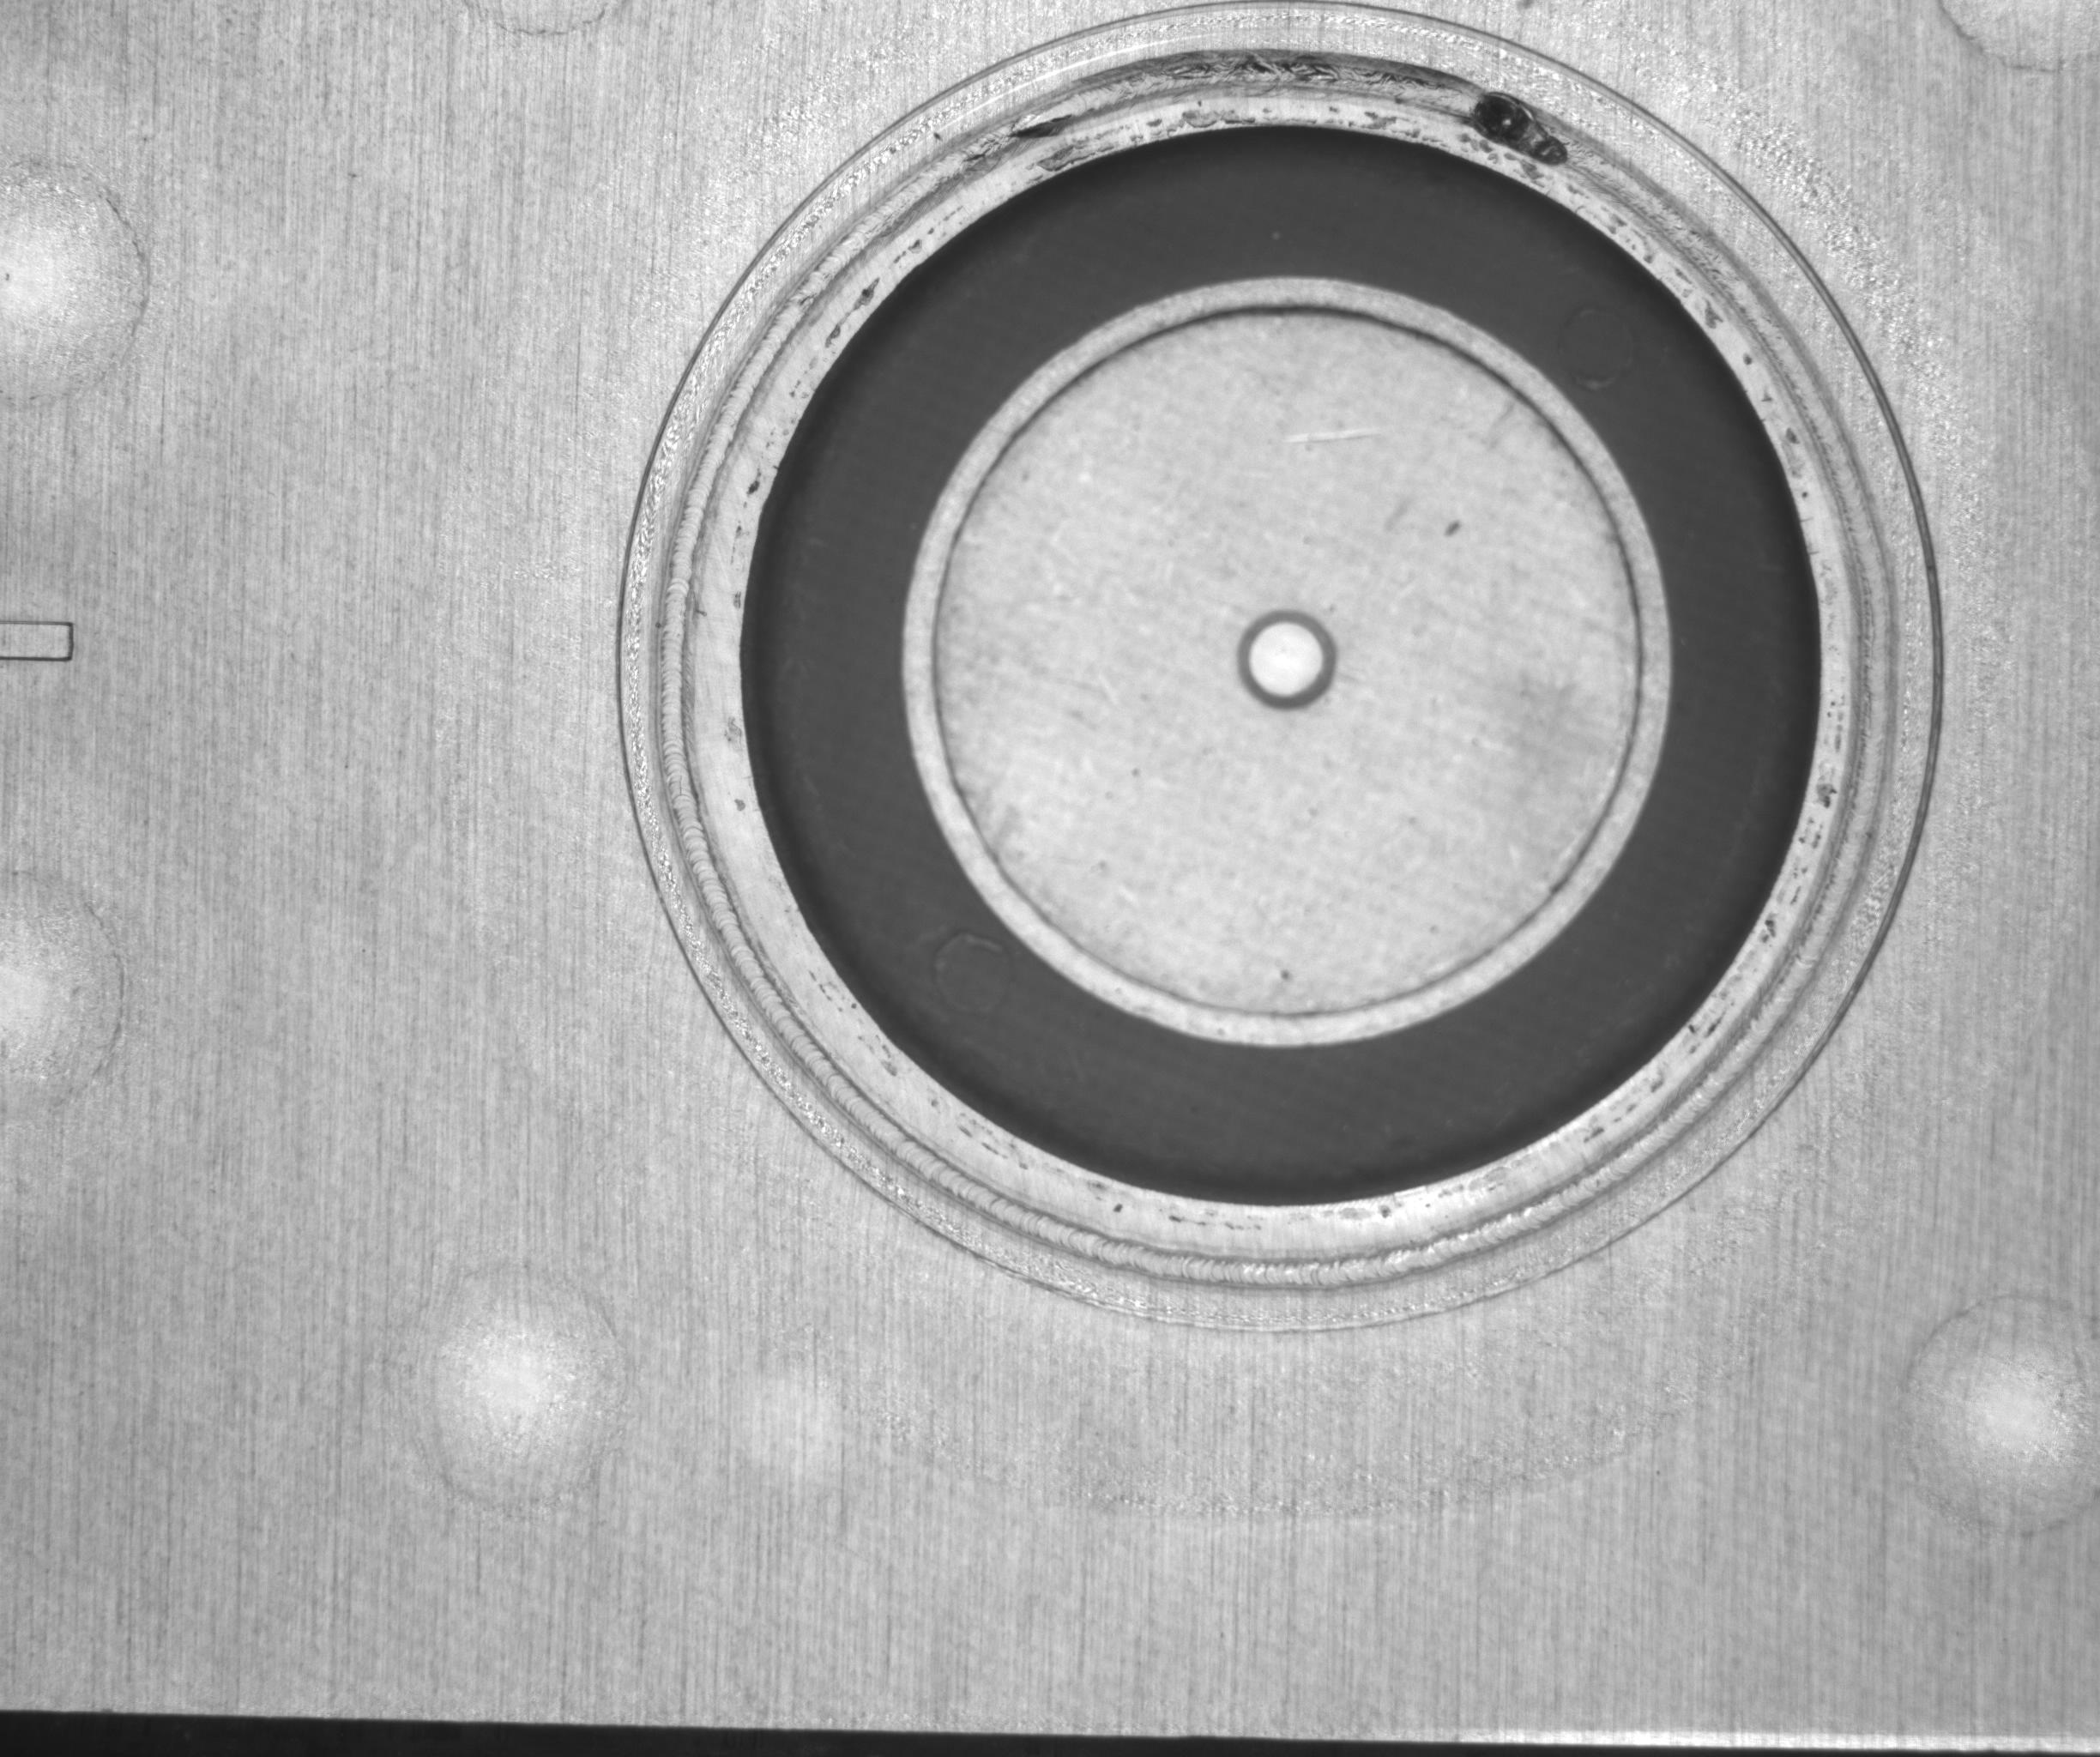continuousholes: (1418, 56, 1612, 202)
